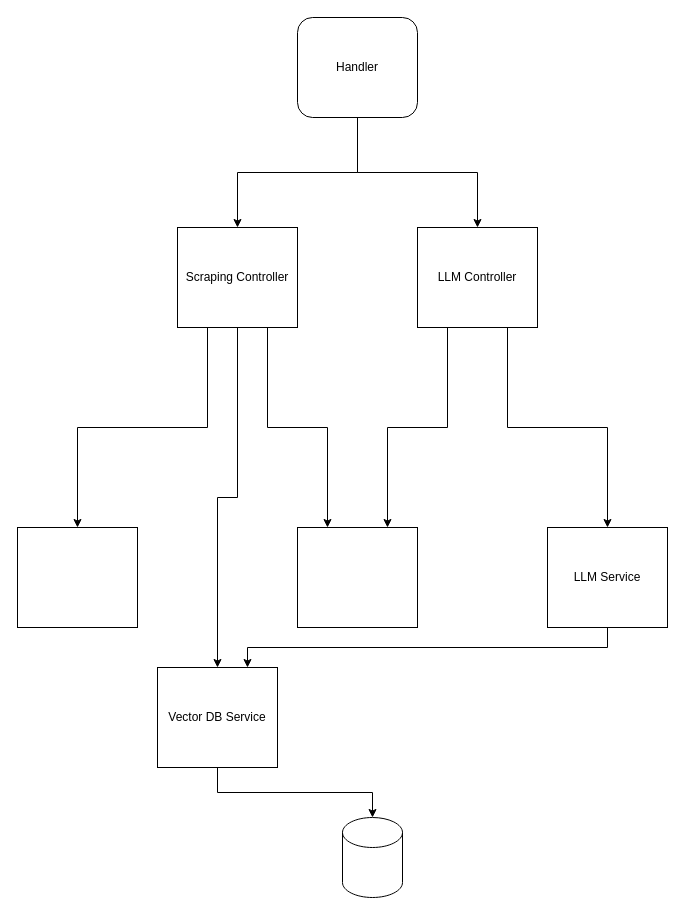
Image size: 685x915. Some labels were removed from this diagram. Each missing label, with the box of its shape:
Scraping Service: (16, 526, 138, 628)
Tokenization Service: (296, 526, 418, 628)
Vector Store: (342, 816, 402, 898)
